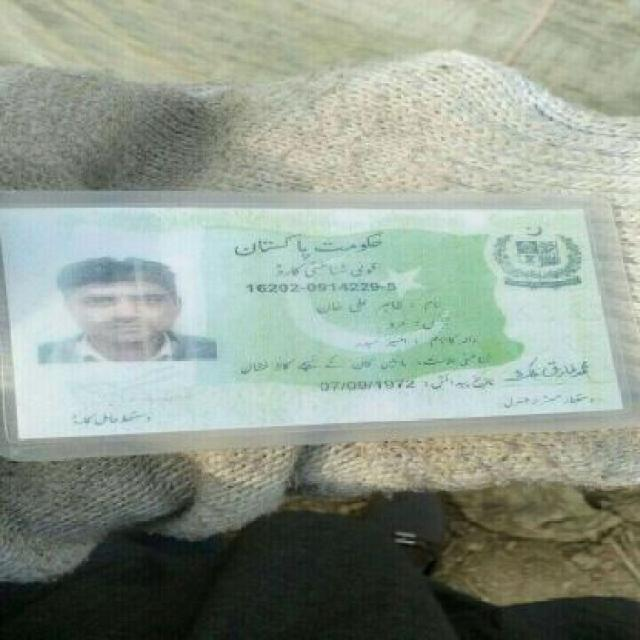Front: (2, 197, 624, 431)
